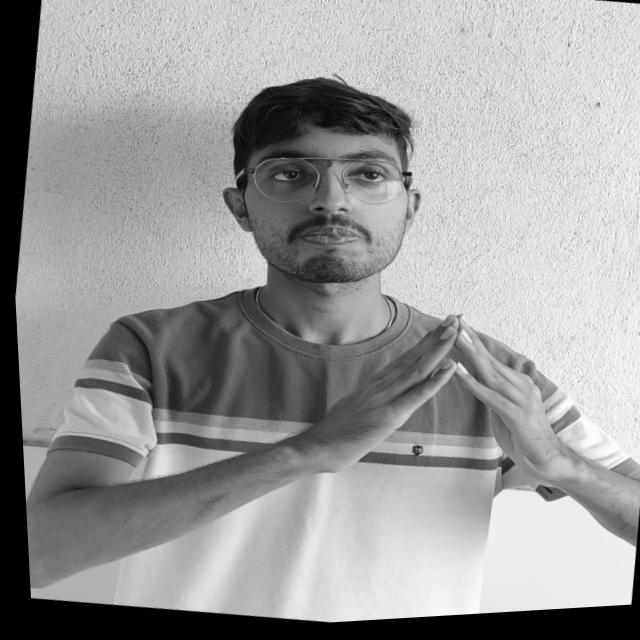Home: (247, 281, 640, 544)
